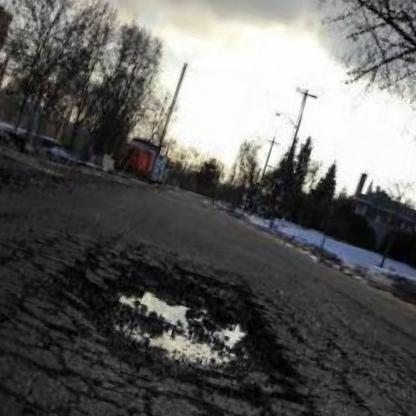pothole: (65, 239, 316, 414)
